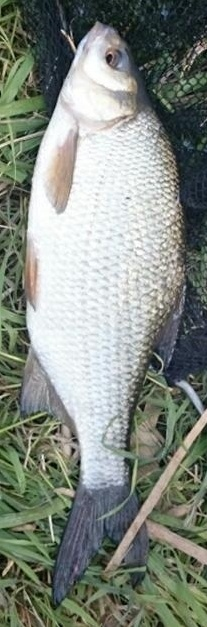Rutilus rutilus: (20, 20, 187, 607)
